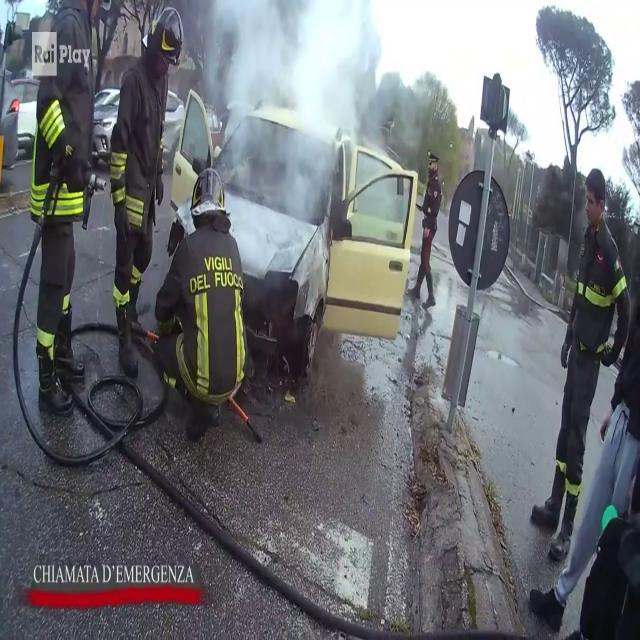Smoke: (210, 0, 386, 252)
